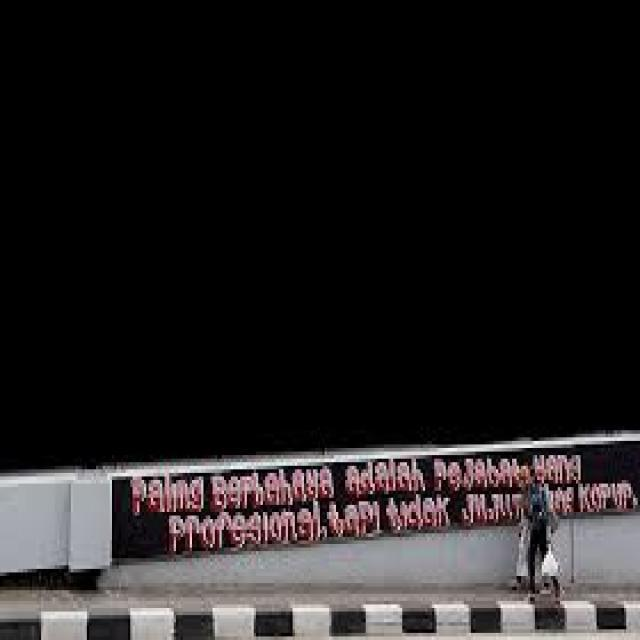-: (131, 454, 638, 554)
